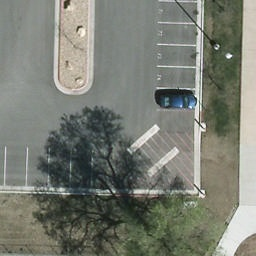car: (159, 94, 198, 109)
